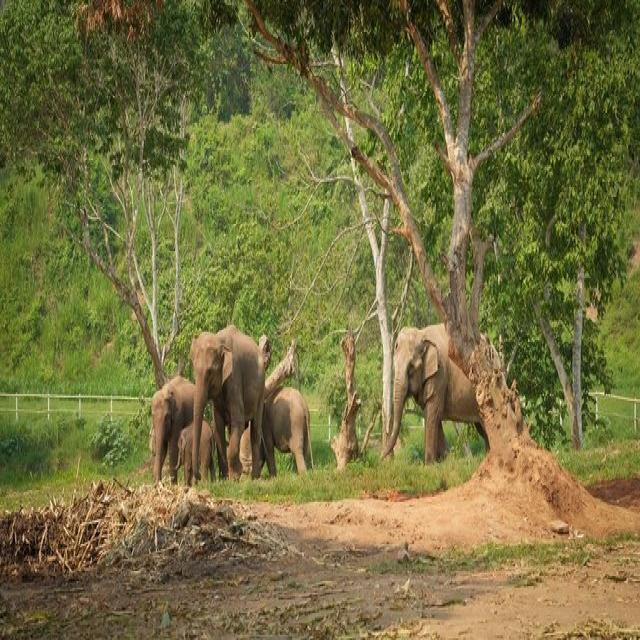Elephant: (384, 306, 510, 491), (192, 320, 263, 486), (137, 362, 204, 480), (260, 387, 326, 482)
